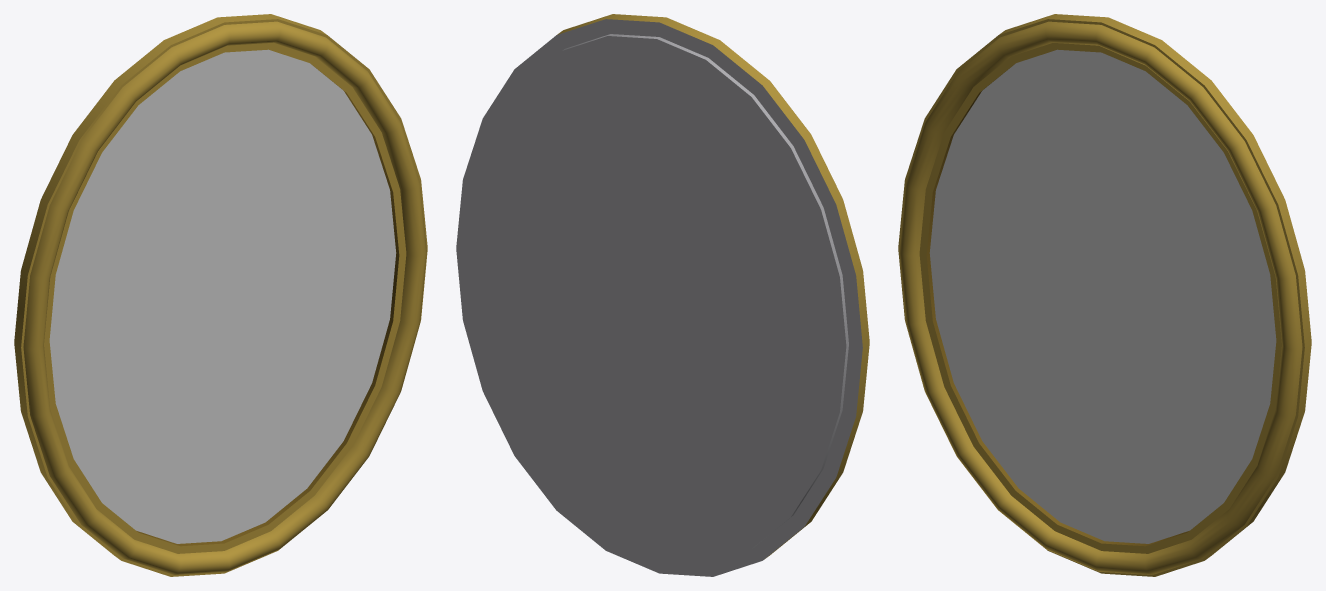
The model's file is Goldmirror.dae.
3 renders of one model, left to right at view 1: azimuth 30°, elevation 25°; view 2: azimuth 150°, elevation 25°; view 3: azimuth 330°, elevation 25°, orthographic.
Visible parts, largest first — view 1: SketchUp (×3); view 2: SketchUp (×3); view 3: SketchUp (×3).
Part boxes in pixels (x1,y1,x2,y2): SketchUp (×3): [14, 14, 427, 576]; SketchUp (×3): [456, 14, 869, 576]; SketchUp (×3): [898, 14, 1311, 576].
Size of the model in its own units: 33.39 by 2.15 by 43.24.
